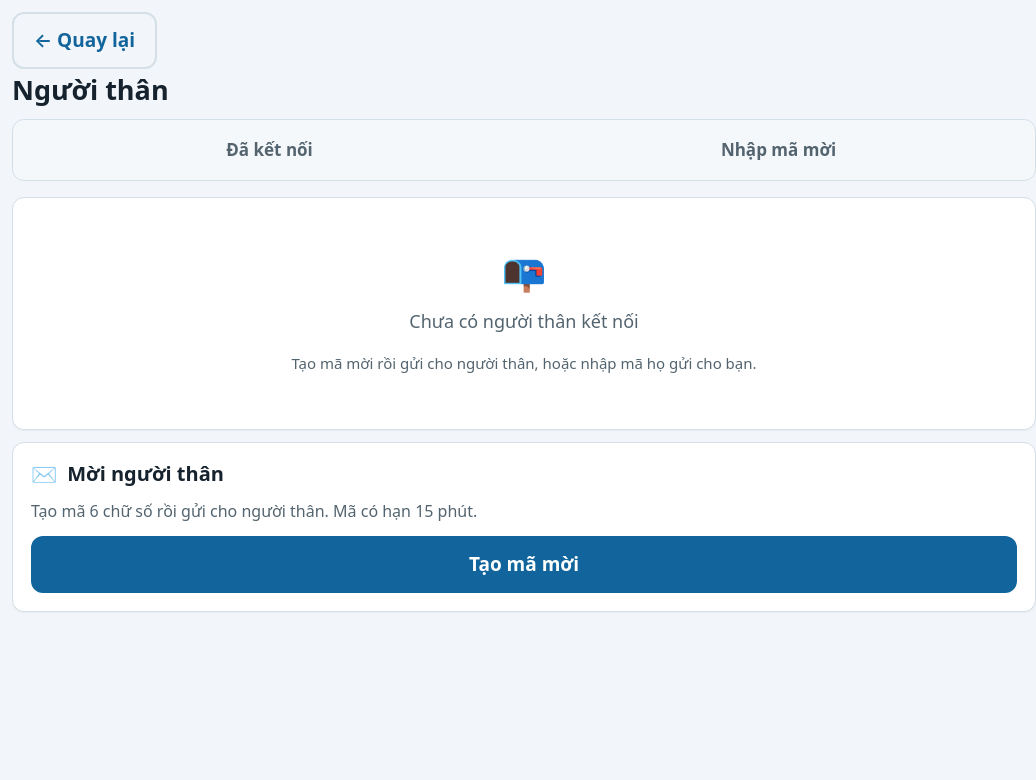
Scenario: M07 — mã mời › mã sai → hiển thị lỗi từ server, không báo thành công
Click the button "Nhập mã mời" at (778, 150), box [528, 126, 1029, 174]
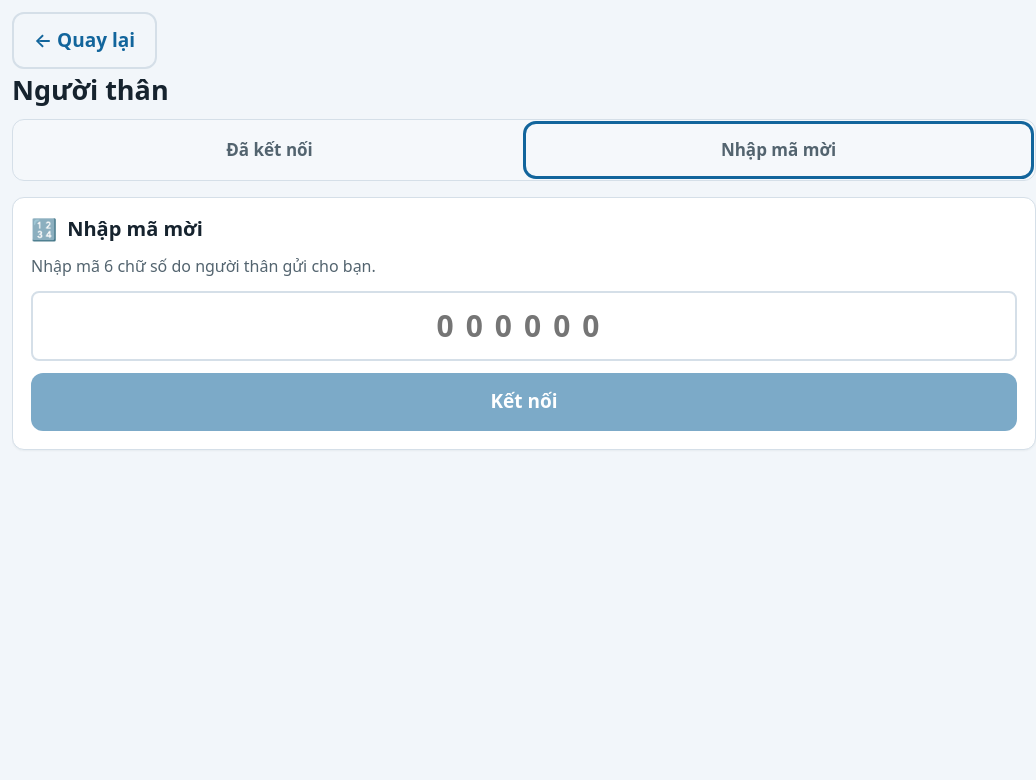
Type "111111" into the field named "Mã mời 6 chữ số" at (524, 326), box [31, 291, 1017, 362]
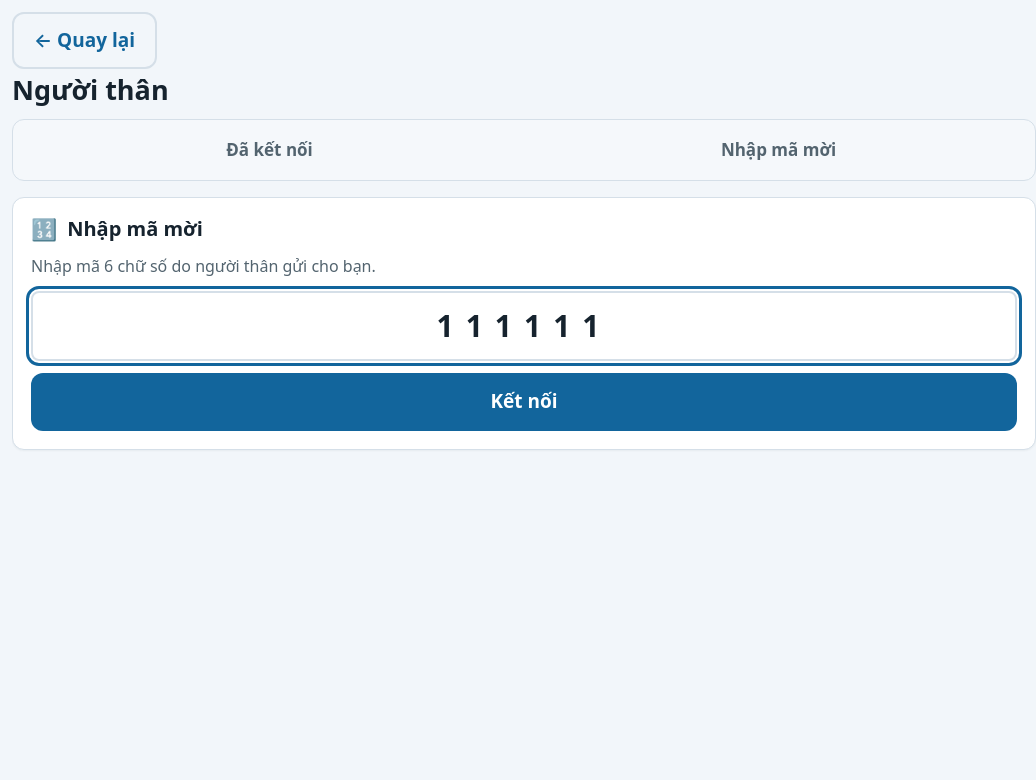
Click the button "Kết nối" at (524, 402), box [31, 374, 1017, 431]
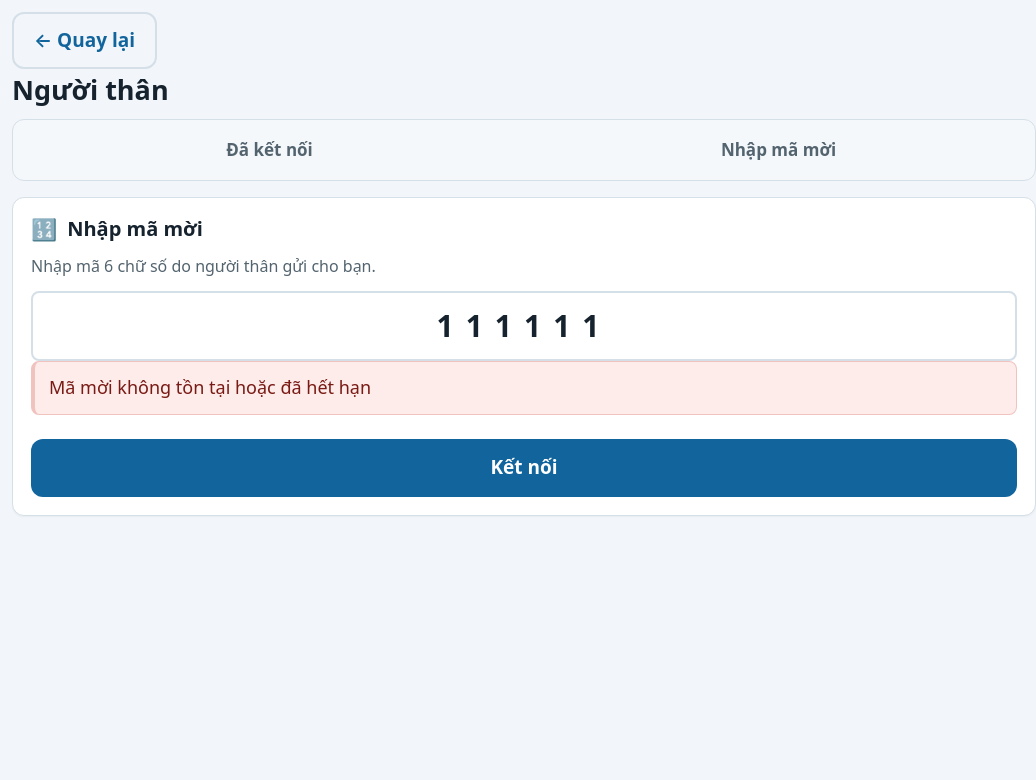
Expected: the message reads "Mã mời không tồn tại hoặc đã hết hạn", [49, 376, 371, 400]
